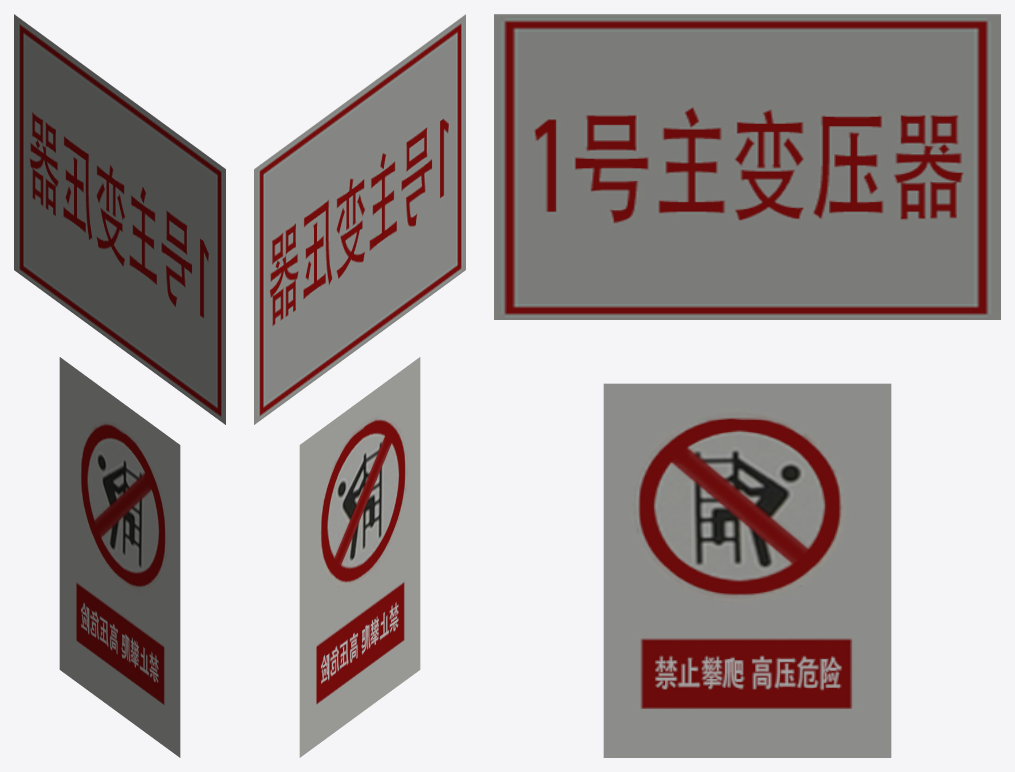
The picture shows the model from 3 angles, left to right: view 1: azimuth 30°, elevation 25°; view 2: azimuth 150°, elevation 25°; view 3: azimuth 270°, elevation 25°; orthographic projection. The views are drawn at different scales.
Visible parts, largest first — view 1: pPlane3; view 2: pPlane3; view 3: pPlane3.
Boxes of the visible parts, <box> form: pPlane3: <box>14,14,225,757</box>; pPlane3: <box>254,14,465,757</box>; pPlane3: <box>494,14,1000,757</box>.
Bounding box in the file's own units: 0 × 609 × 376.
1 material, 1 textured.
